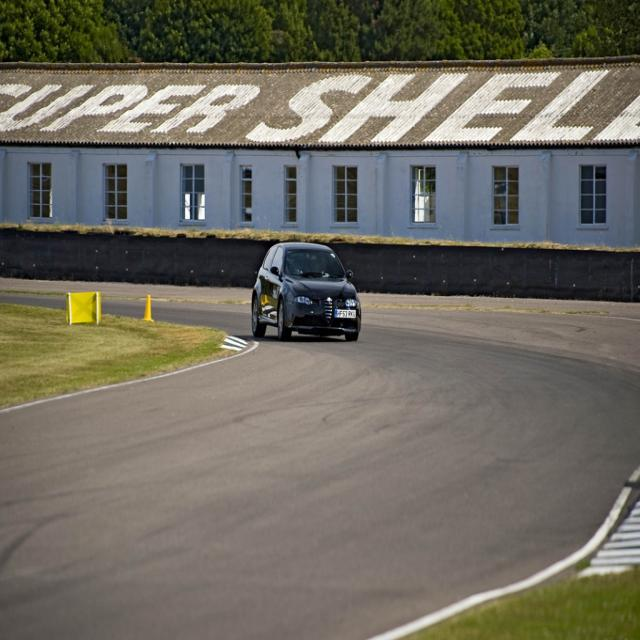car: (244, 231, 370, 340)
